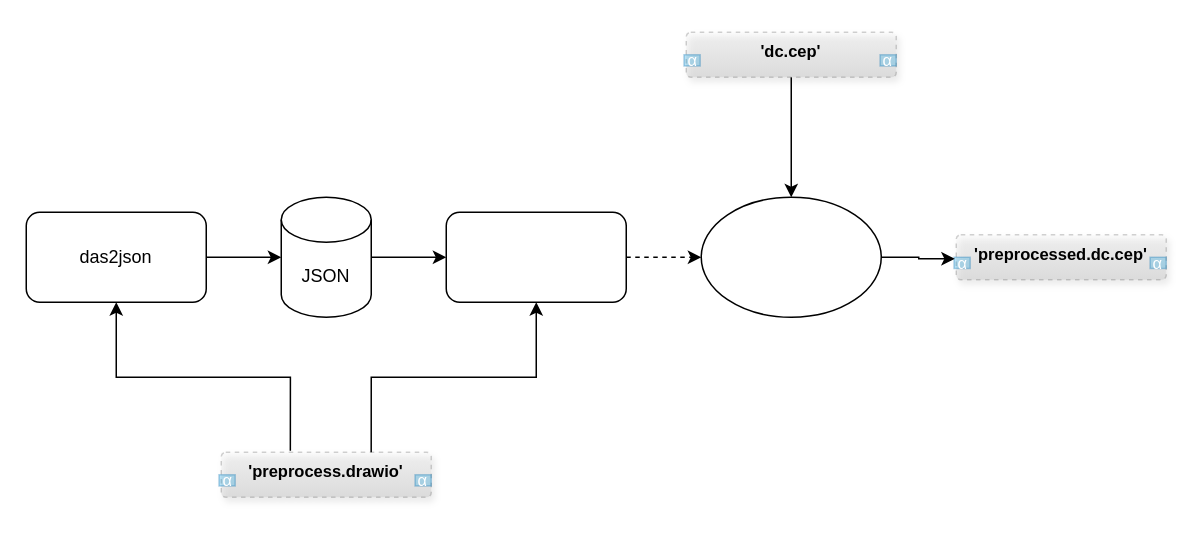
The diagram is 1202 pixels wide and 534 high, and some of its shapes have lost their labels. Here are the shapes that lost their labels. From the top down, the centre of each, then its label:
At (x=535, y=256): "dw0d".
At (x=790, y=256): "preprocess app".
